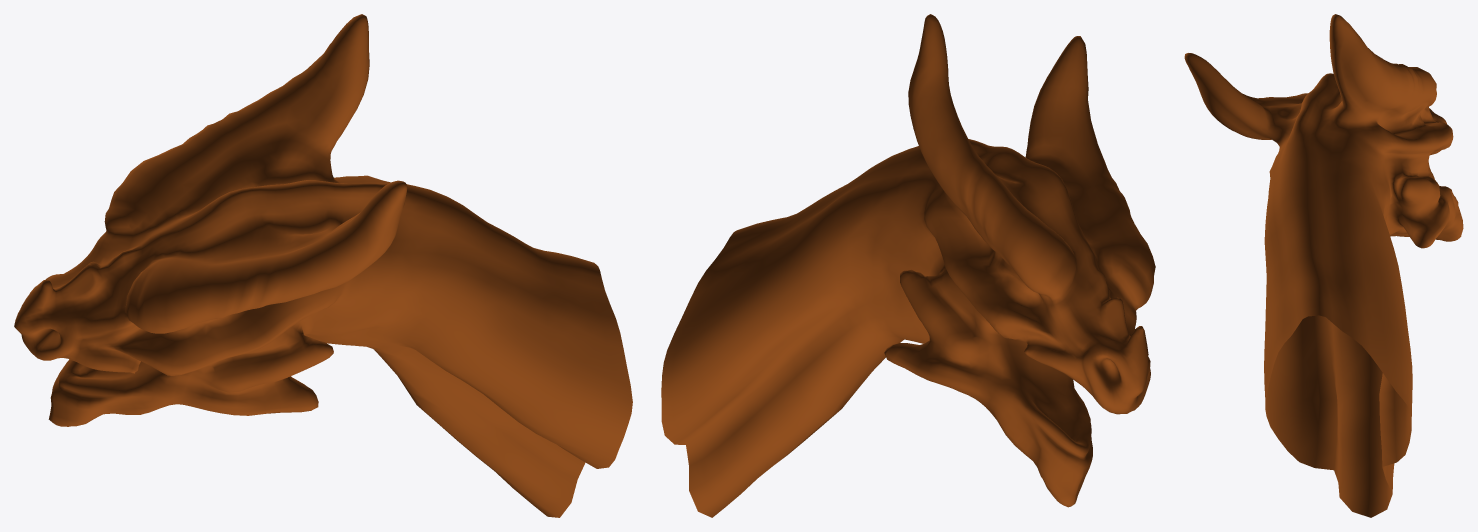
The model's file is Cabeza5.obj.
The picture shows the model from 3 angles, left to right: view 1: azimuth 30°, elevation 25°; view 2: azimuth 150°, elevation 25°; view 3: azimuth 270°, elevation 25°; orthographic projection. The views are drawn at different scales.
Visible parts, largest first — view 1: Cabeza5; view 2: Cabeza5; view 3: Cabeza5.
Part boxes in pixels (bbox=[...]): Cabeza5: bbox=[14, 14, 632, 517]; Cabeza5: bbox=[661, 14, 1155, 517]; Cabeza5: bbox=[1184, 14, 1463, 517].
Bounding box in the file's own units: 2.45 × 2.54 × 1.5.
1 material, 1 textured.
